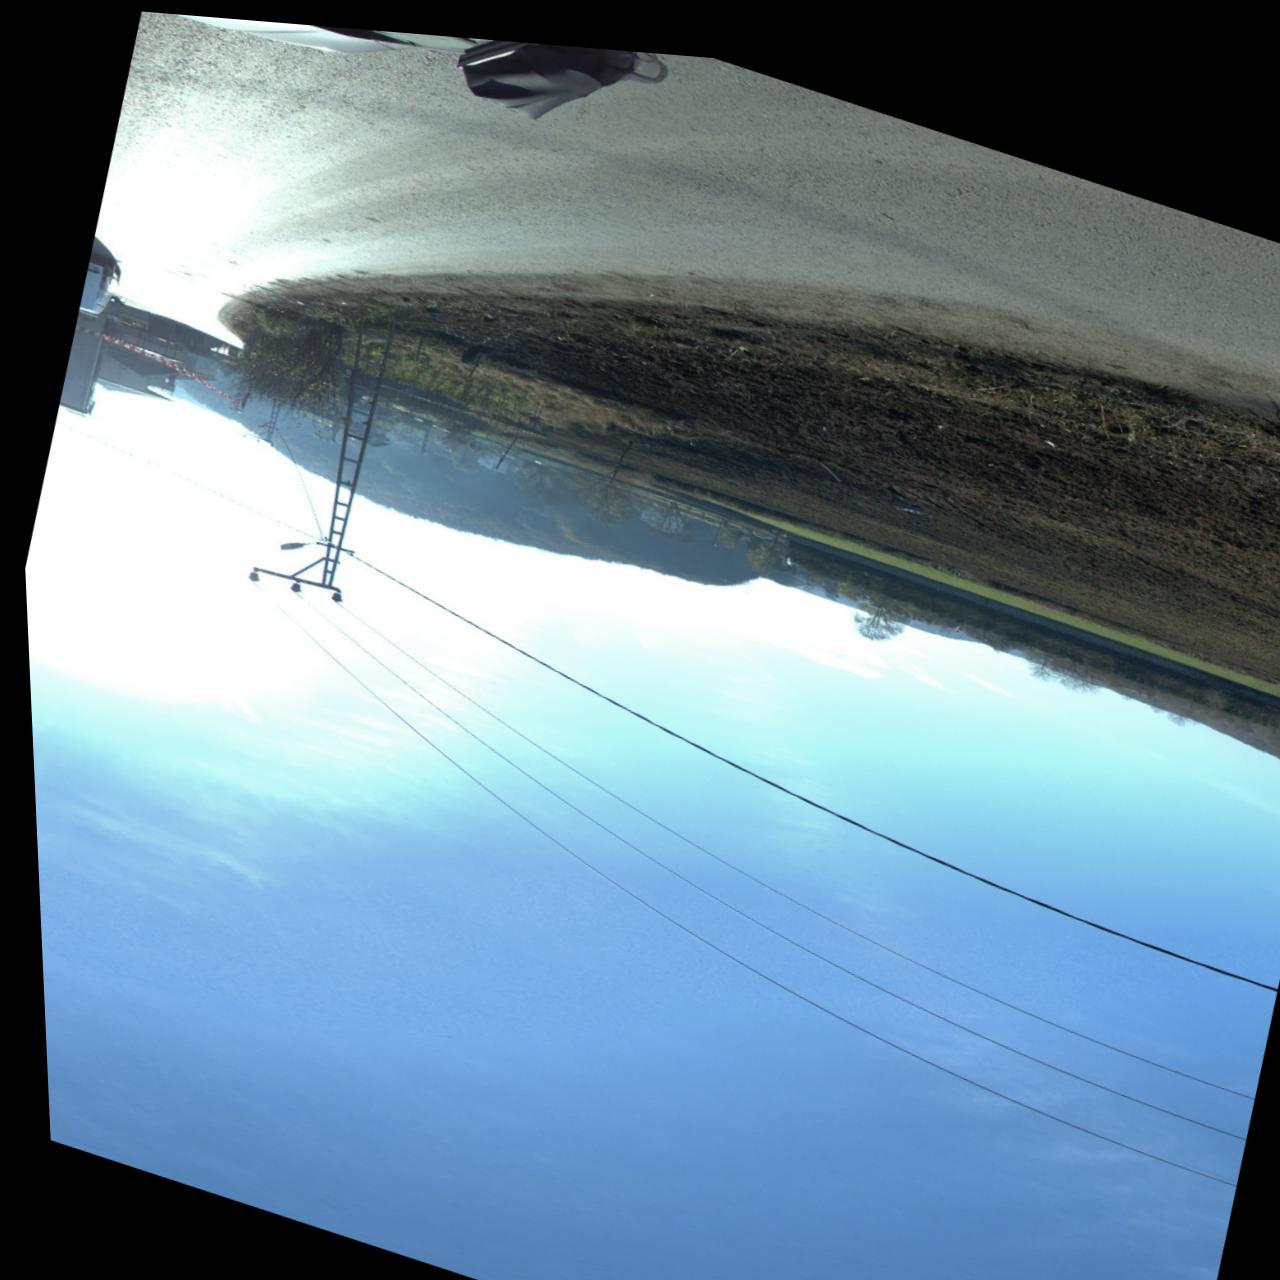Utility Pole Information Plate: (338, 408, 346, 417)
